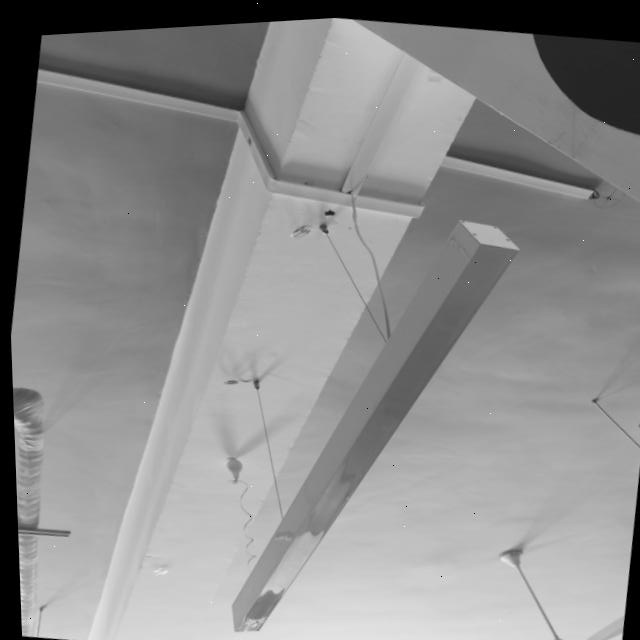fluorescent tube: (203, 183, 541, 640)
